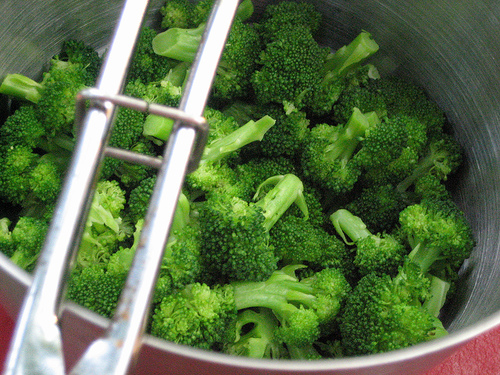broccoli: (6, 2, 478, 355)
